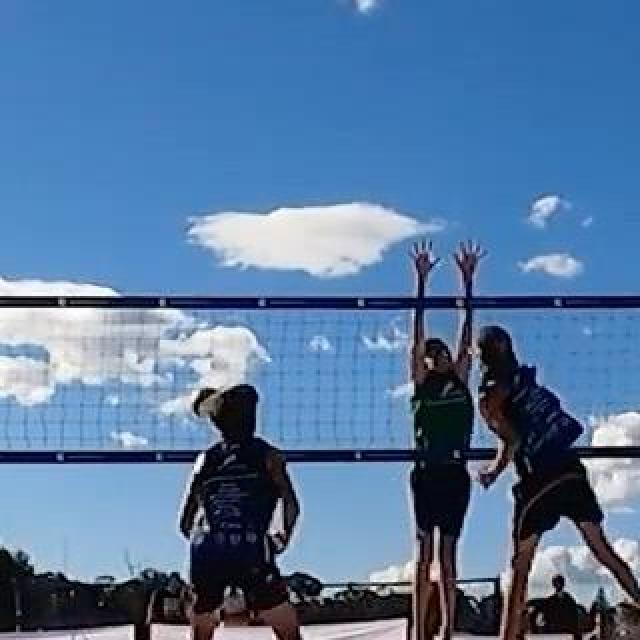volleyball: (191, 385, 223, 419)
